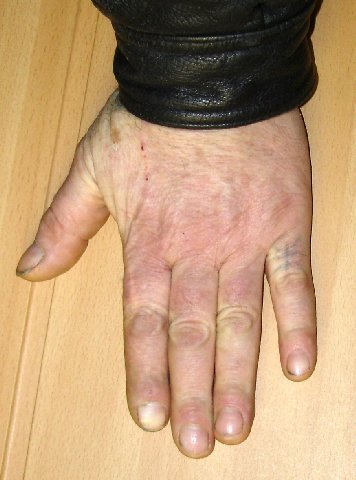tatu9_krest: (273, 239, 301, 272)
